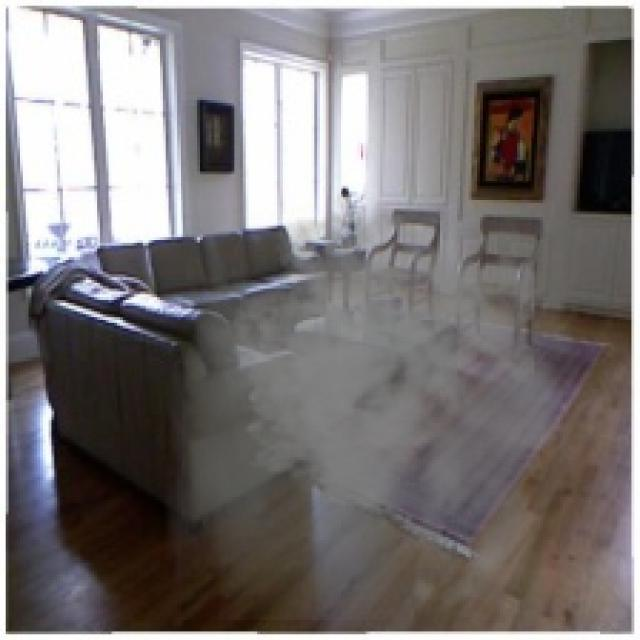Smoke: (165, 195, 580, 620)
